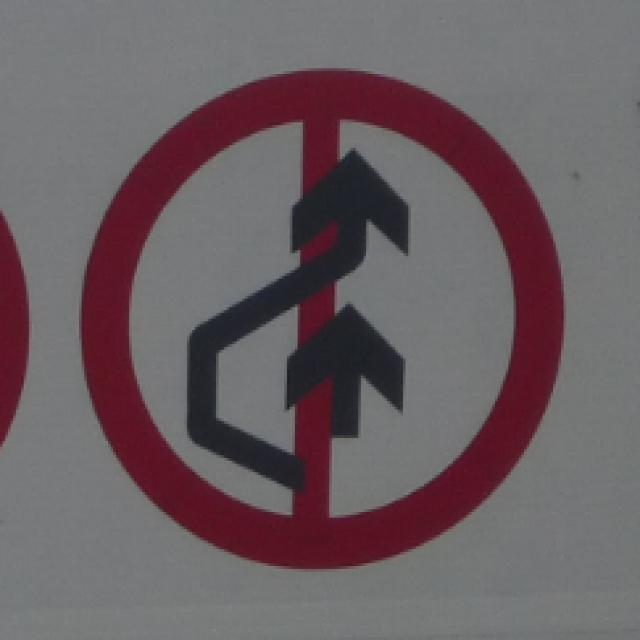Not that Direction: (71, 64, 576, 568)
